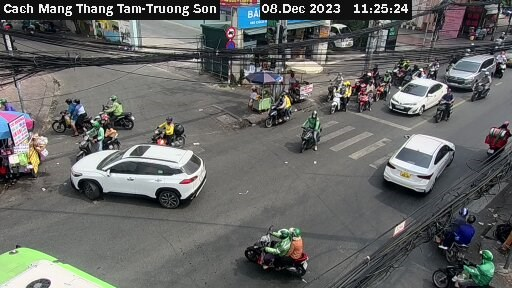car: (69, 137, 209, 210), (384, 132, 460, 192), (449, 53, 500, 99), (392, 73, 445, 116)
motorbike: (245, 221, 314, 273), (428, 205, 476, 249), (291, 117, 341, 157), (446, 251, 496, 288), (92, 103, 140, 134), (146, 123, 201, 145), (260, 94, 302, 122), (54, 106, 91, 135), (70, 128, 121, 149), (481, 120, 508, 159), (467, 76, 499, 103), (430, 94, 456, 123), (328, 84, 354, 112), (322, 73, 350, 95), (354, 87, 379, 111), (494, 53, 512, 79)
